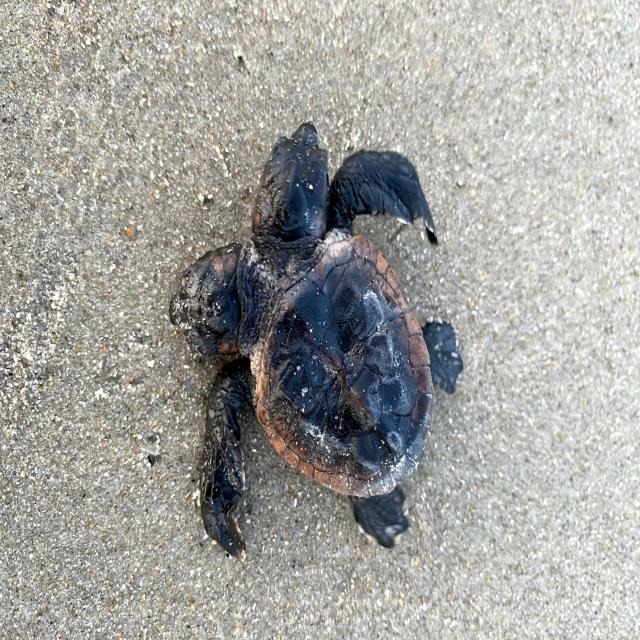turtle: (170, 122, 463, 558)
